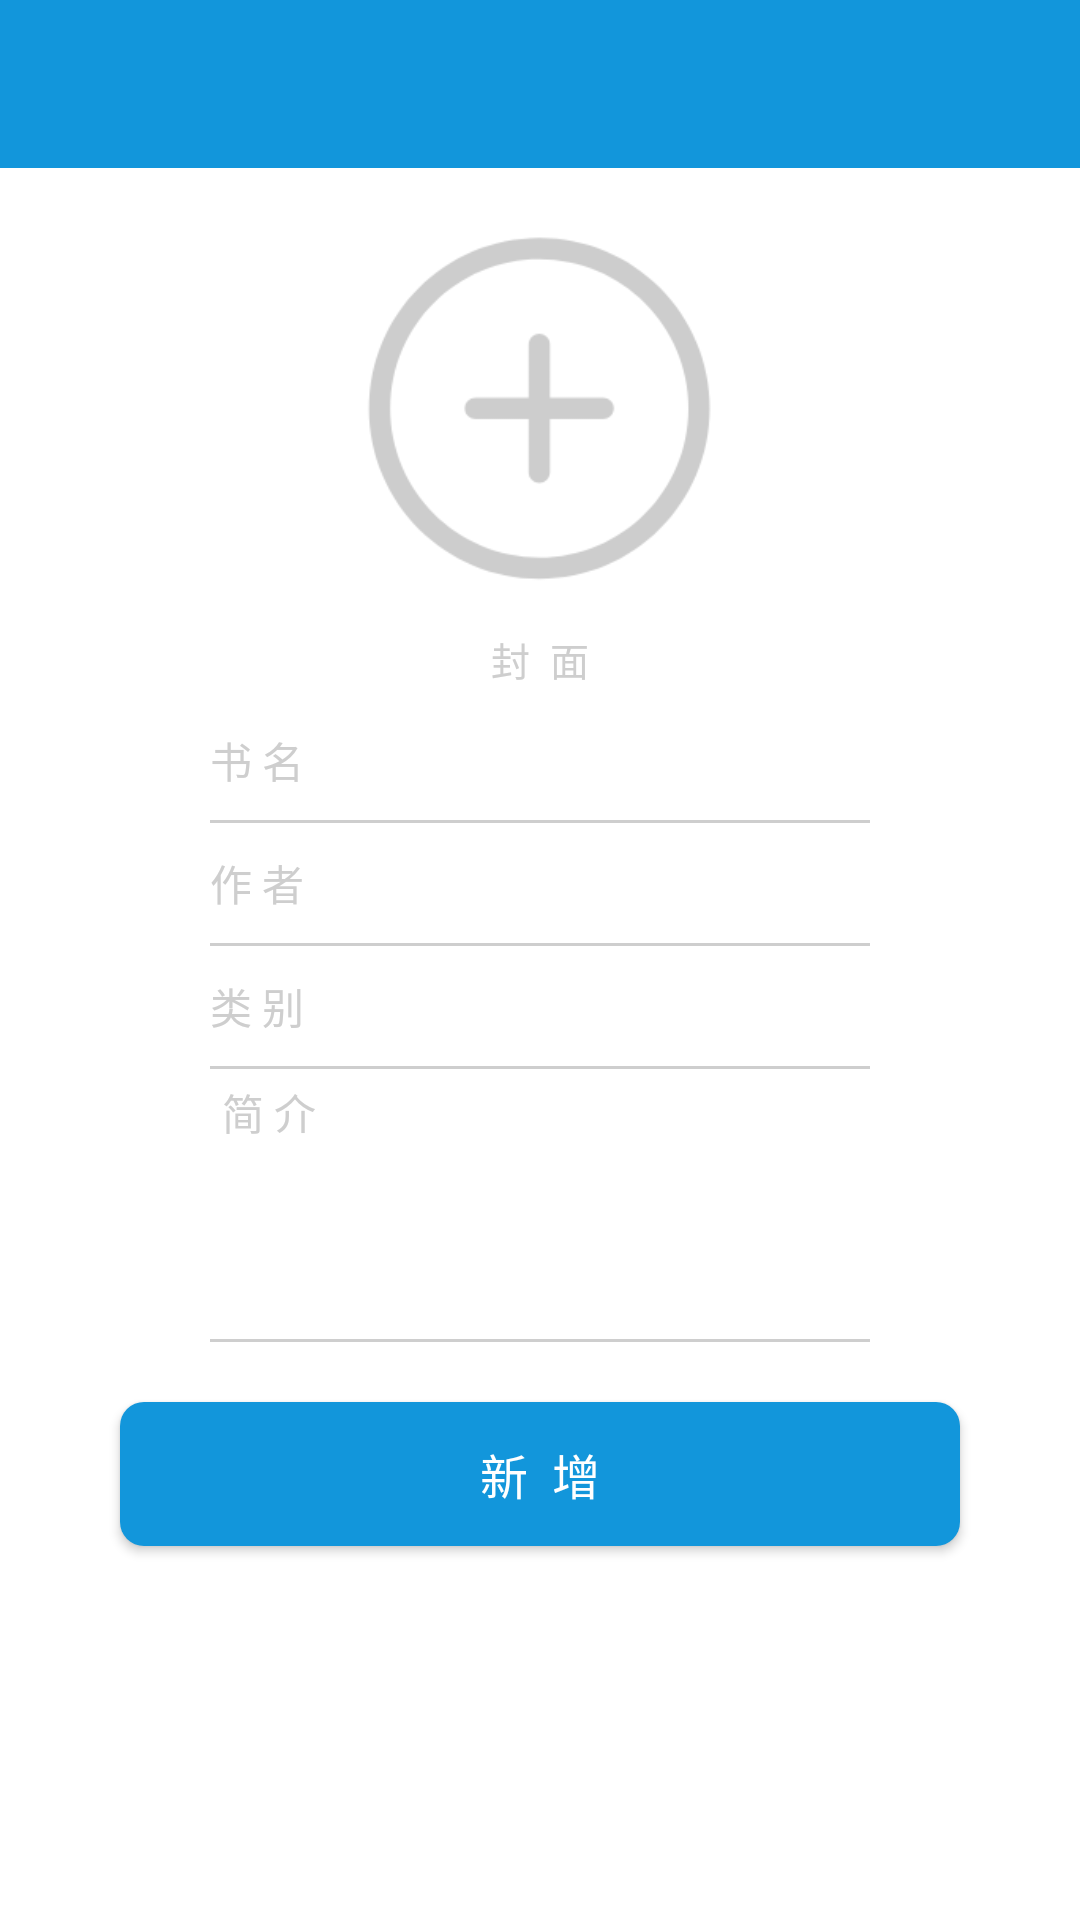

Screen size 1080px x 1920px. Icon name, then its center in pixels as point (x, y):
add: point (539, 408)
